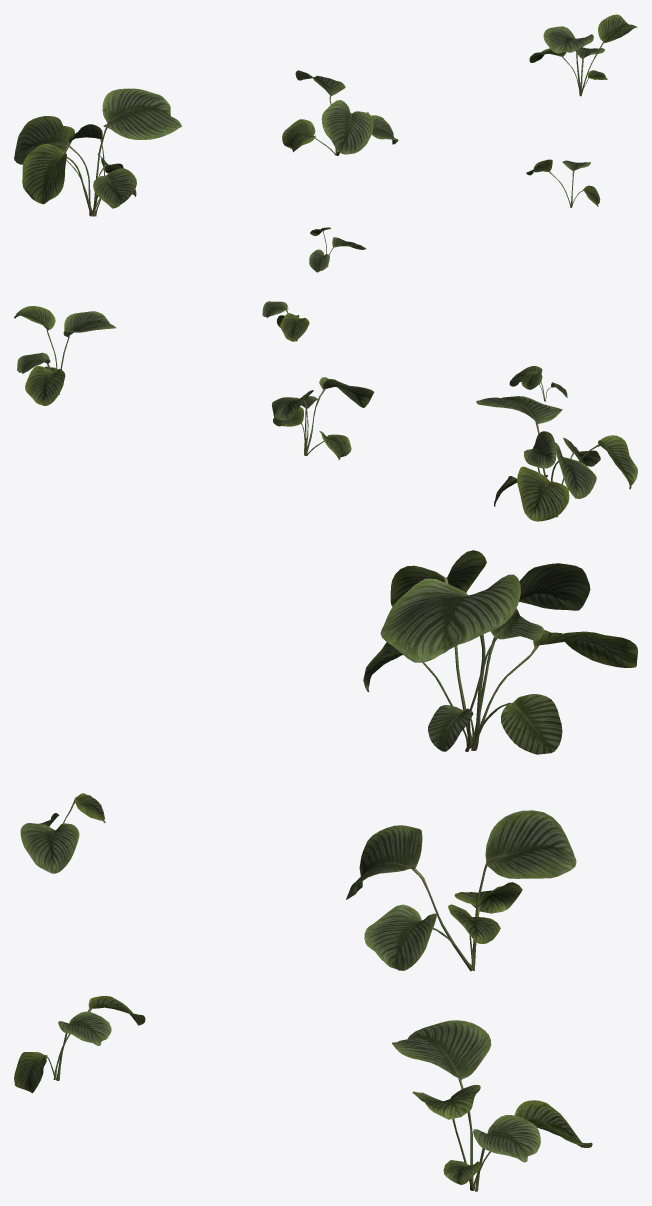
Rendered from calathea_orbifolia_01.glb.
3 views of the same model, one above another, from view 1: azimuth 30°, elevation 25°; view 2: azimuth 150°, elevation 25°; view 3: azimuth 270°, elevation 25° (orthographic). The views are drawn at different scales.
Parts seen in each view (by area): view 1: calathea_orbifolia_01_a, calathea_orbifolia_01_b, calathea_orbifolia_01_c, calathea_orbifolia_01_e, calathea_orbifolia_01_d; view 2: calathea_orbifolia_01_a, calathea_orbifolia_01_c, calathea_orbifolia_01_b, calathea_orbifolia_01_e, calathea_orbifolia_01_d; view 3: calathea_orbifolia_01_a, calathea_orbifolia_01_b, calathea_orbifolia_01_c, calathea_orbifolia_01_e, calathea_orbifolia_01_d.
Part boxes in pixels (x1,y1,x2,y2): calathea_orbifolia_01_a: (14,88,181,216); calathea_orbifolia_01_b: (282,70,398,155); calathea_orbifolia_01_c: (529,14,637,96); calathea_orbifolia_01_e: (526,159,600,207); calathea_orbifolia_01_d: (309,227,366,272); calathea_orbifolia_01_a: (476,396,637,521); calathea_orbifolia_01_c: (14,306,115,405); calathea_orbifolia_01_b: (271,377,374,459); calathea_orbifolia_01_e: (262,301,309,341); calathea_orbifolia_01_d: (509,366,567,401); calathea_orbifolia_01_a: (363,550,637,754); calathea_orbifolia_01_b: (346,810,576,971); calathea_orbifolia_01_c: (392,1020,592,1191); calathea_orbifolia_01_e: (14,996,145,1093); calathea_orbifolia_01_d: (20,793,105,873).
Size of the model in its own units: 2.49 by 0.4239 by 1.19.
1 material, 1 textured.
